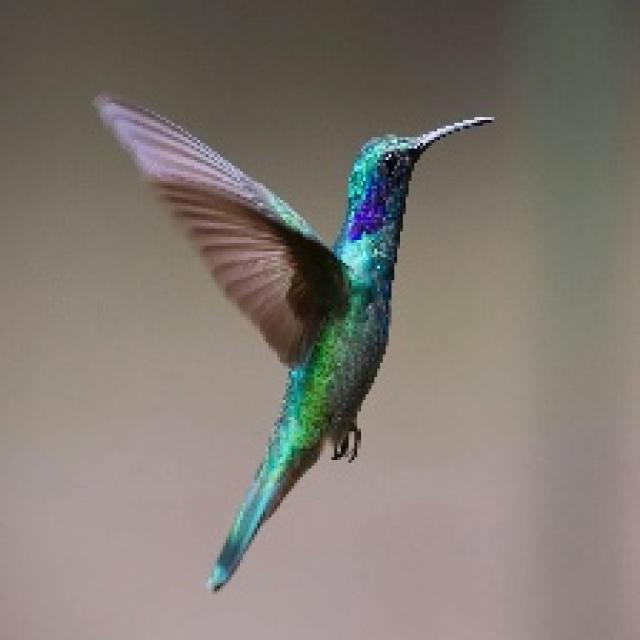bear: (74, 41, 533, 607)
